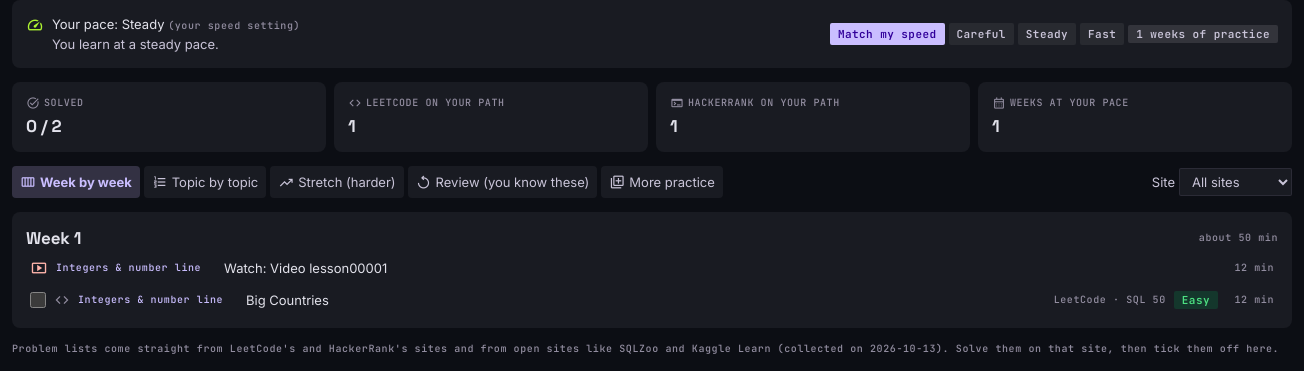
Test: Problem sets › lists LeetCode and HackerRank problems by week and by topic, with a pace switch
This screenshot has width=1304, height=371.
Expected: the heading "Week 1" is shown, [26, 226, 81, 250]
Click the tab "Topic by topic" at x=205, y=182, box [144, 166, 266, 198]
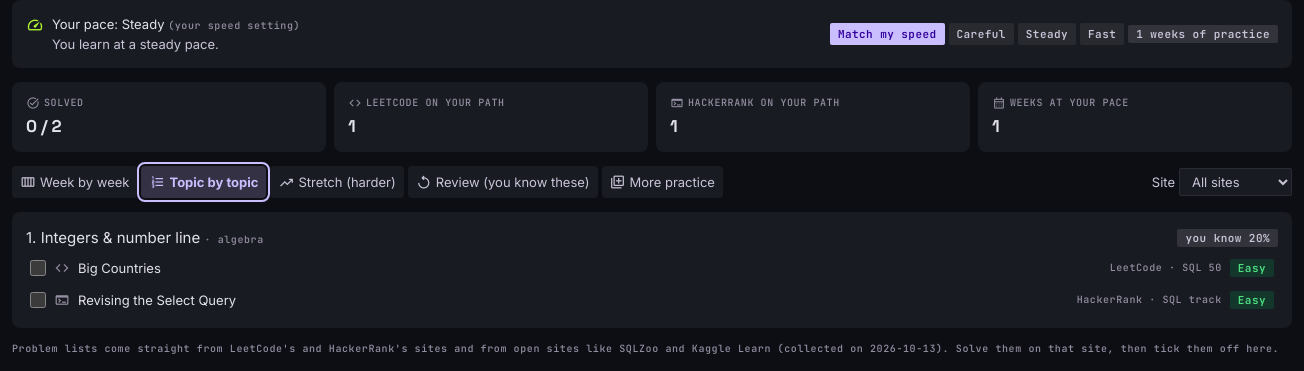
Expected: the link "Revising the Select Query" is shown, [78, 292, 236, 308]
Click the checkbox named "Mark \"Big Countries\" as solved" at x=38, y=268, box [30, 260, 46, 276]
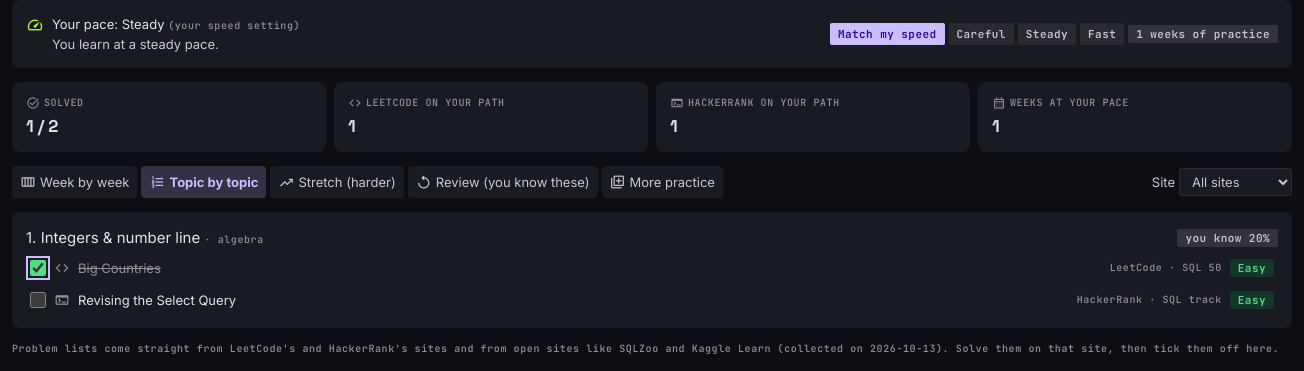
Expected: the text "1 / 2" is shown, [26, 115, 58, 137]
Click the radio button labelled "Fast" at x=1102, y=34, box [1080, 23, 1124, 45]
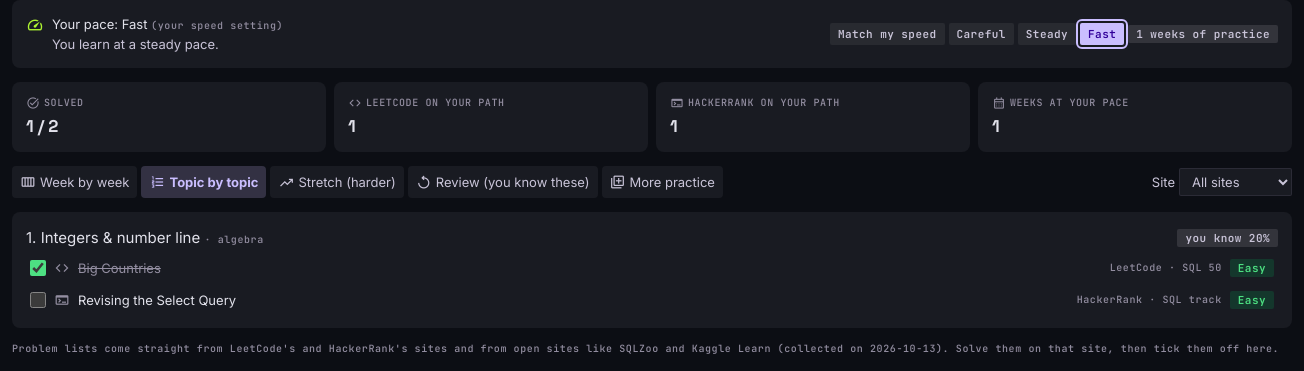
Expected: the text "Your pace: Fast (your speed setting)" is shown, [52, 14, 283, 34]
Click the tab "Stretch (harder)" at x=337, y=182, box [270, 166, 404, 198]
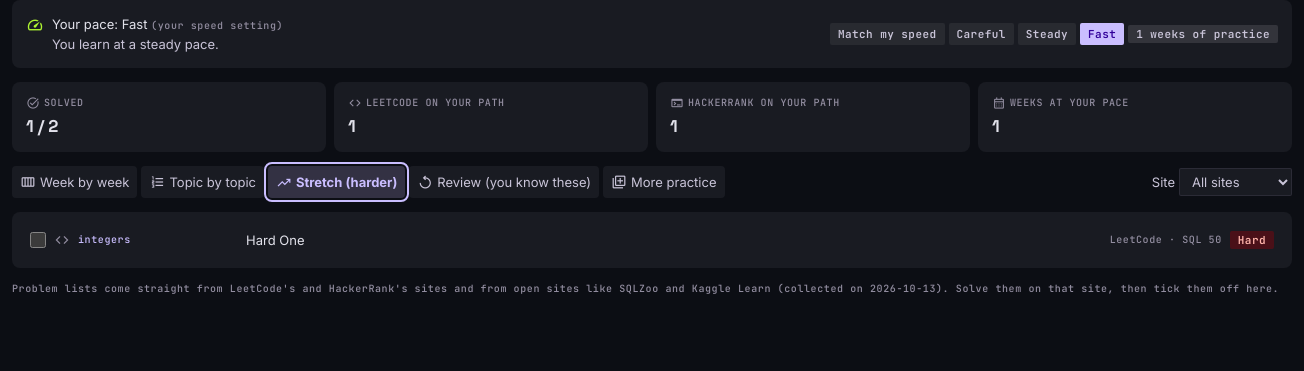
Expected: the link "Hard One" is shown, [246, 232, 304, 248]
